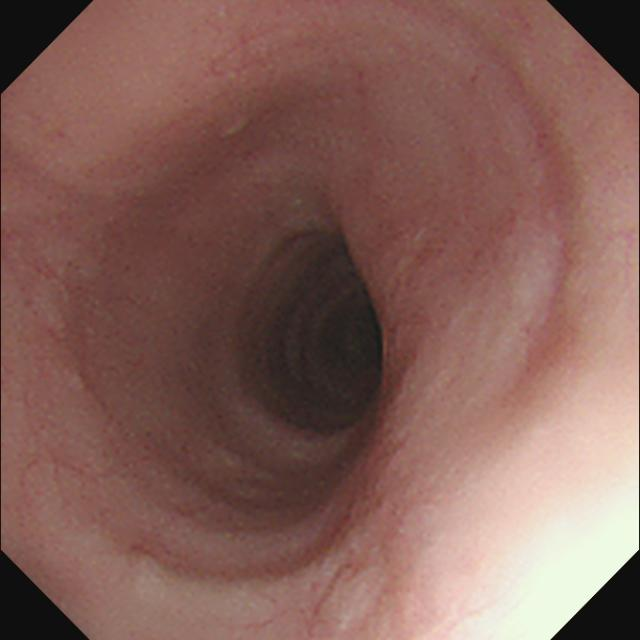E: (238, 237, 387, 436)
